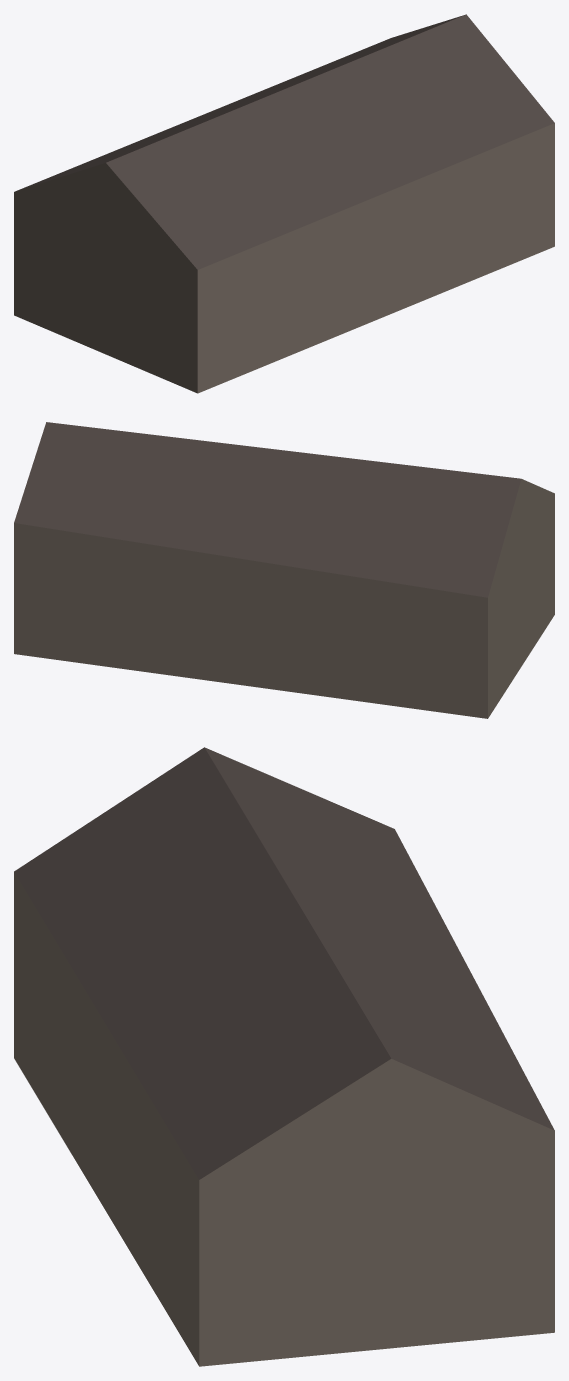
The picture shows the model from 3 angles, top to bottom: view 1: azimuth 30°, elevation 25°; view 2: azimuth 150°, elevation 25°; view 3: azimuth 270°, elevation 25°; orthographic projection. The views are drawn at different scales.
Parts seen in each view (by area): view 1: HP-w505649232; view 2: HP-w505649232; view 3: HP-w505649232.
Part boxes in pixels (left/top/right/bottom): HP-w505649232: left=14, top=14, right=554, bottom=393; HP-w505649232: left=14, top=422, right=554, bottom=718; HP-w505649232: left=14, top=747, right=554, bottom=1366.
Bounding box in the file's own units: 24.21 × 9.31 × 15.77.
